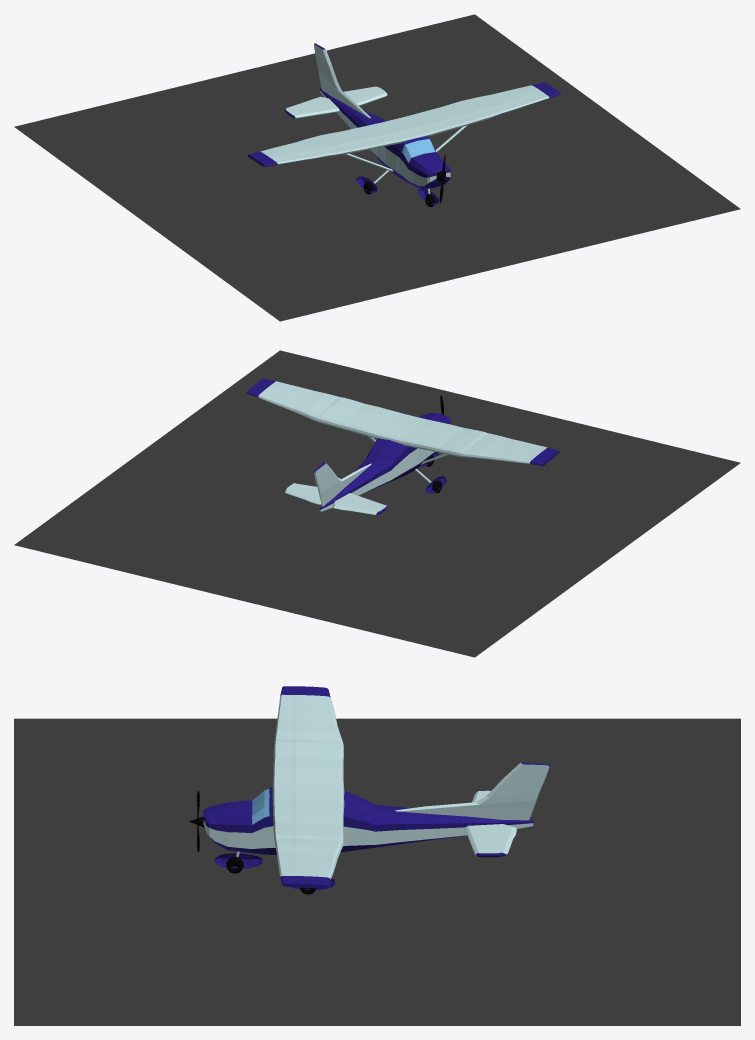
The model's file is low-poly-cessna-172-skyhawk.glb.
The picture shows the model from 3 angles, top to bottom: view 1: azimuth 30°, elevation 25°; view 2: azimuth 150°, elevation 25°; view 3: azimuth 270°, elevation 25°; orthographic projection. The views are drawn at different scales.
Parts seen in each view (by area): view 1: Plane, Cube; view 2: Plane, Cube; view 3: Plane, Cube.
Part boxes in pixels (x1,y1,x2,y2): Plane: [14, 14, 740, 321]; Cube: [247, 43, 560, 206]; Plane: [14, 350, 740, 657]; Cube: [246, 378, 559, 514]; Plane: [14, 718, 740, 1025]; Cube: [203, 686, 549, 894].
Size of the model in its own units: 9.43 by 1.58 by 9.43.
